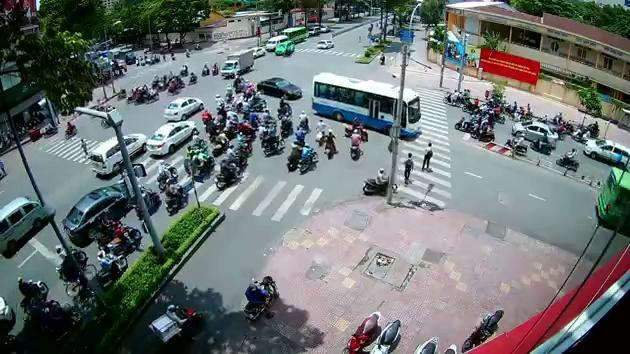xe buyt: (311, 71, 419, 141)
xe hoi: (61, 183, 133, 247), (89, 131, 148, 177), (147, 303, 203, 349), (146, 120, 196, 156), (582, 139, 629, 167), (513, 120, 556, 147), (92, 249, 125, 284), (16, 275, 47, 312), (256, 76, 302, 99), (164, 96, 202, 120), (163, 177, 187, 213), (215, 158, 241, 189), (155, 158, 177, 189), (321, 127, 338, 160), (299, 142, 317, 173), (345, 117, 367, 141), (454, 111, 475, 132), (441, 88, 460, 106), (64, 120, 77, 140)
xe may: (363, 166, 396, 195), (556, 147, 579, 171), (347, 128, 361, 161)
xe tai: (220, 48, 253, 76)
xe van: (0, 194, 47, 258)
